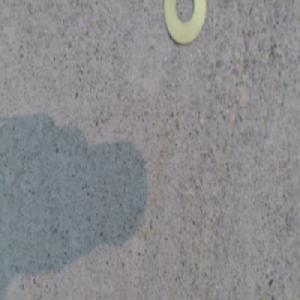Washer: (164, 0, 208, 48)
